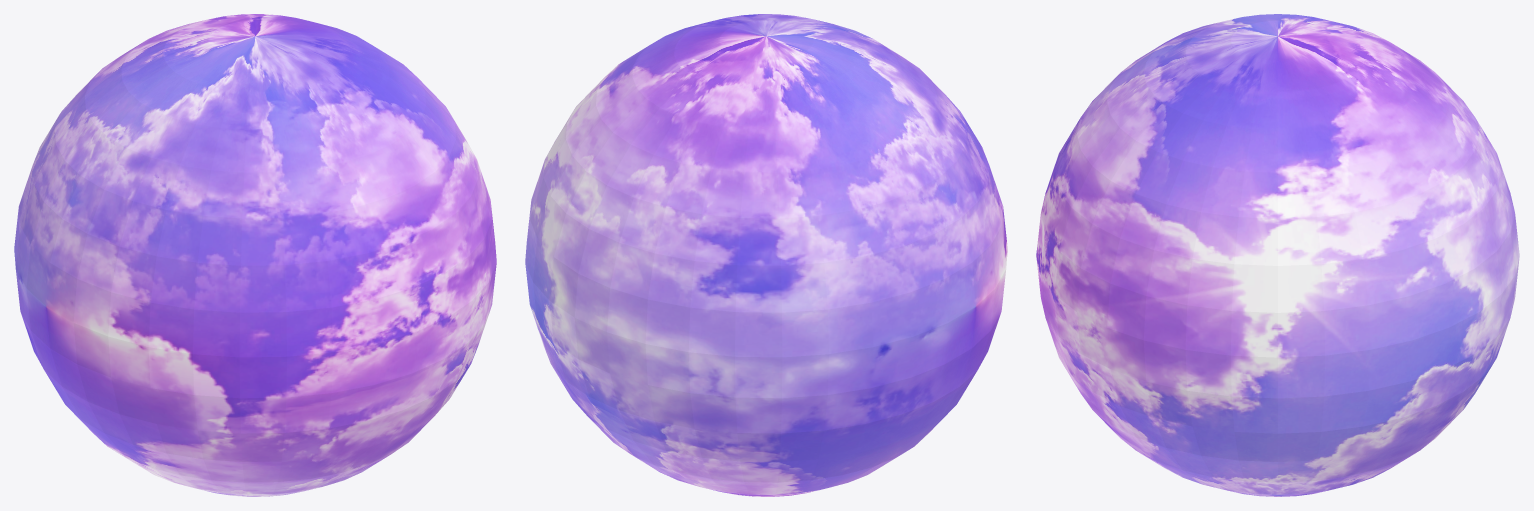
Rendered from example3.gltf.
3 views of the same model, side by side, from view 1: azimuth 30°, elevation 25°; view 2: azimuth 150°, elevation 25°; view 3: azimuth 270°, elevation 25° (orthographic).
Visible parts, largest first — view 1: Sphere.001; view 2: Sphere.001; view 3: Sphere.001.
Boxes of the visible parts, x1=… form: Sphere.001: x1=14, y1=14, x2=496, y2=496; Sphere.001: x1=525, y1=14, x2=1007, y2=496; Sphere.001: x1=1036, y1=14, x2=1519, y2=496.
Size of what is drawn, in the model's own units: 872 by 872 by 872.
Materials: 4 (3 with a texture image).
